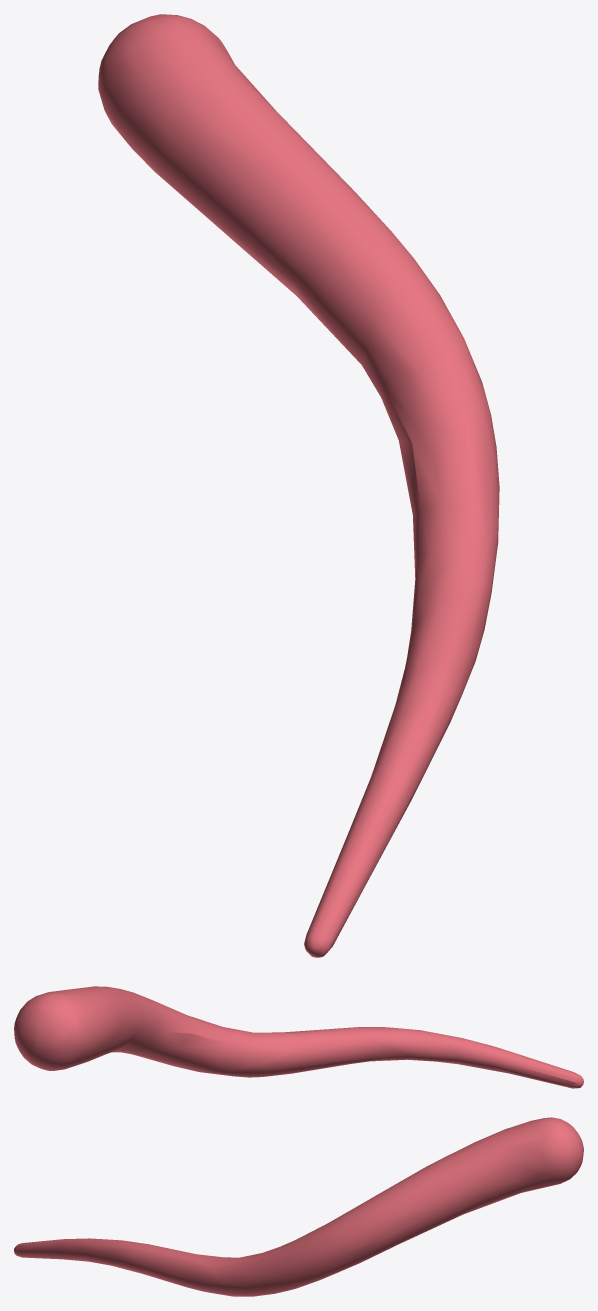
The model's file is fma15802_fj3101.glb.
3 views of the same model, one above another, from view 1: azimuth 30°, elevation 25°; view 2: azimuth 150°, elevation 25°; view 3: azimuth 270°, elevation 25° (orthographic). The views are drawn at different scales.
Parts seen in each view (by area): view 1: FMA15802_FJ3101; view 2: FMA15802_FJ3101; view 3: FMA15802_FJ3101.
Boxes of the visible parts, x1,y1,x2,y2 form: FMA15802_FJ3101: [98, 14, 499, 957]; FMA15802_FJ3101: [14, 986, 583, 1088]; FMA15802_FJ3101: [14, 1117, 583, 1296].
Size of the model in its own units: 0.0155 by 0.0138 by 0.0312.
